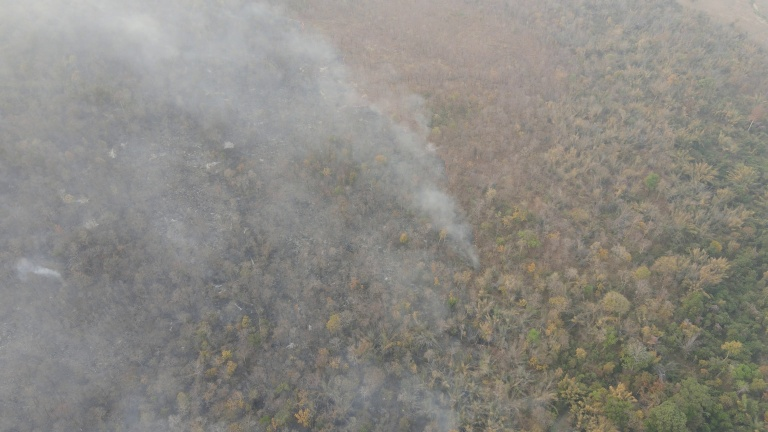smoke: (1, 1, 500, 430)
